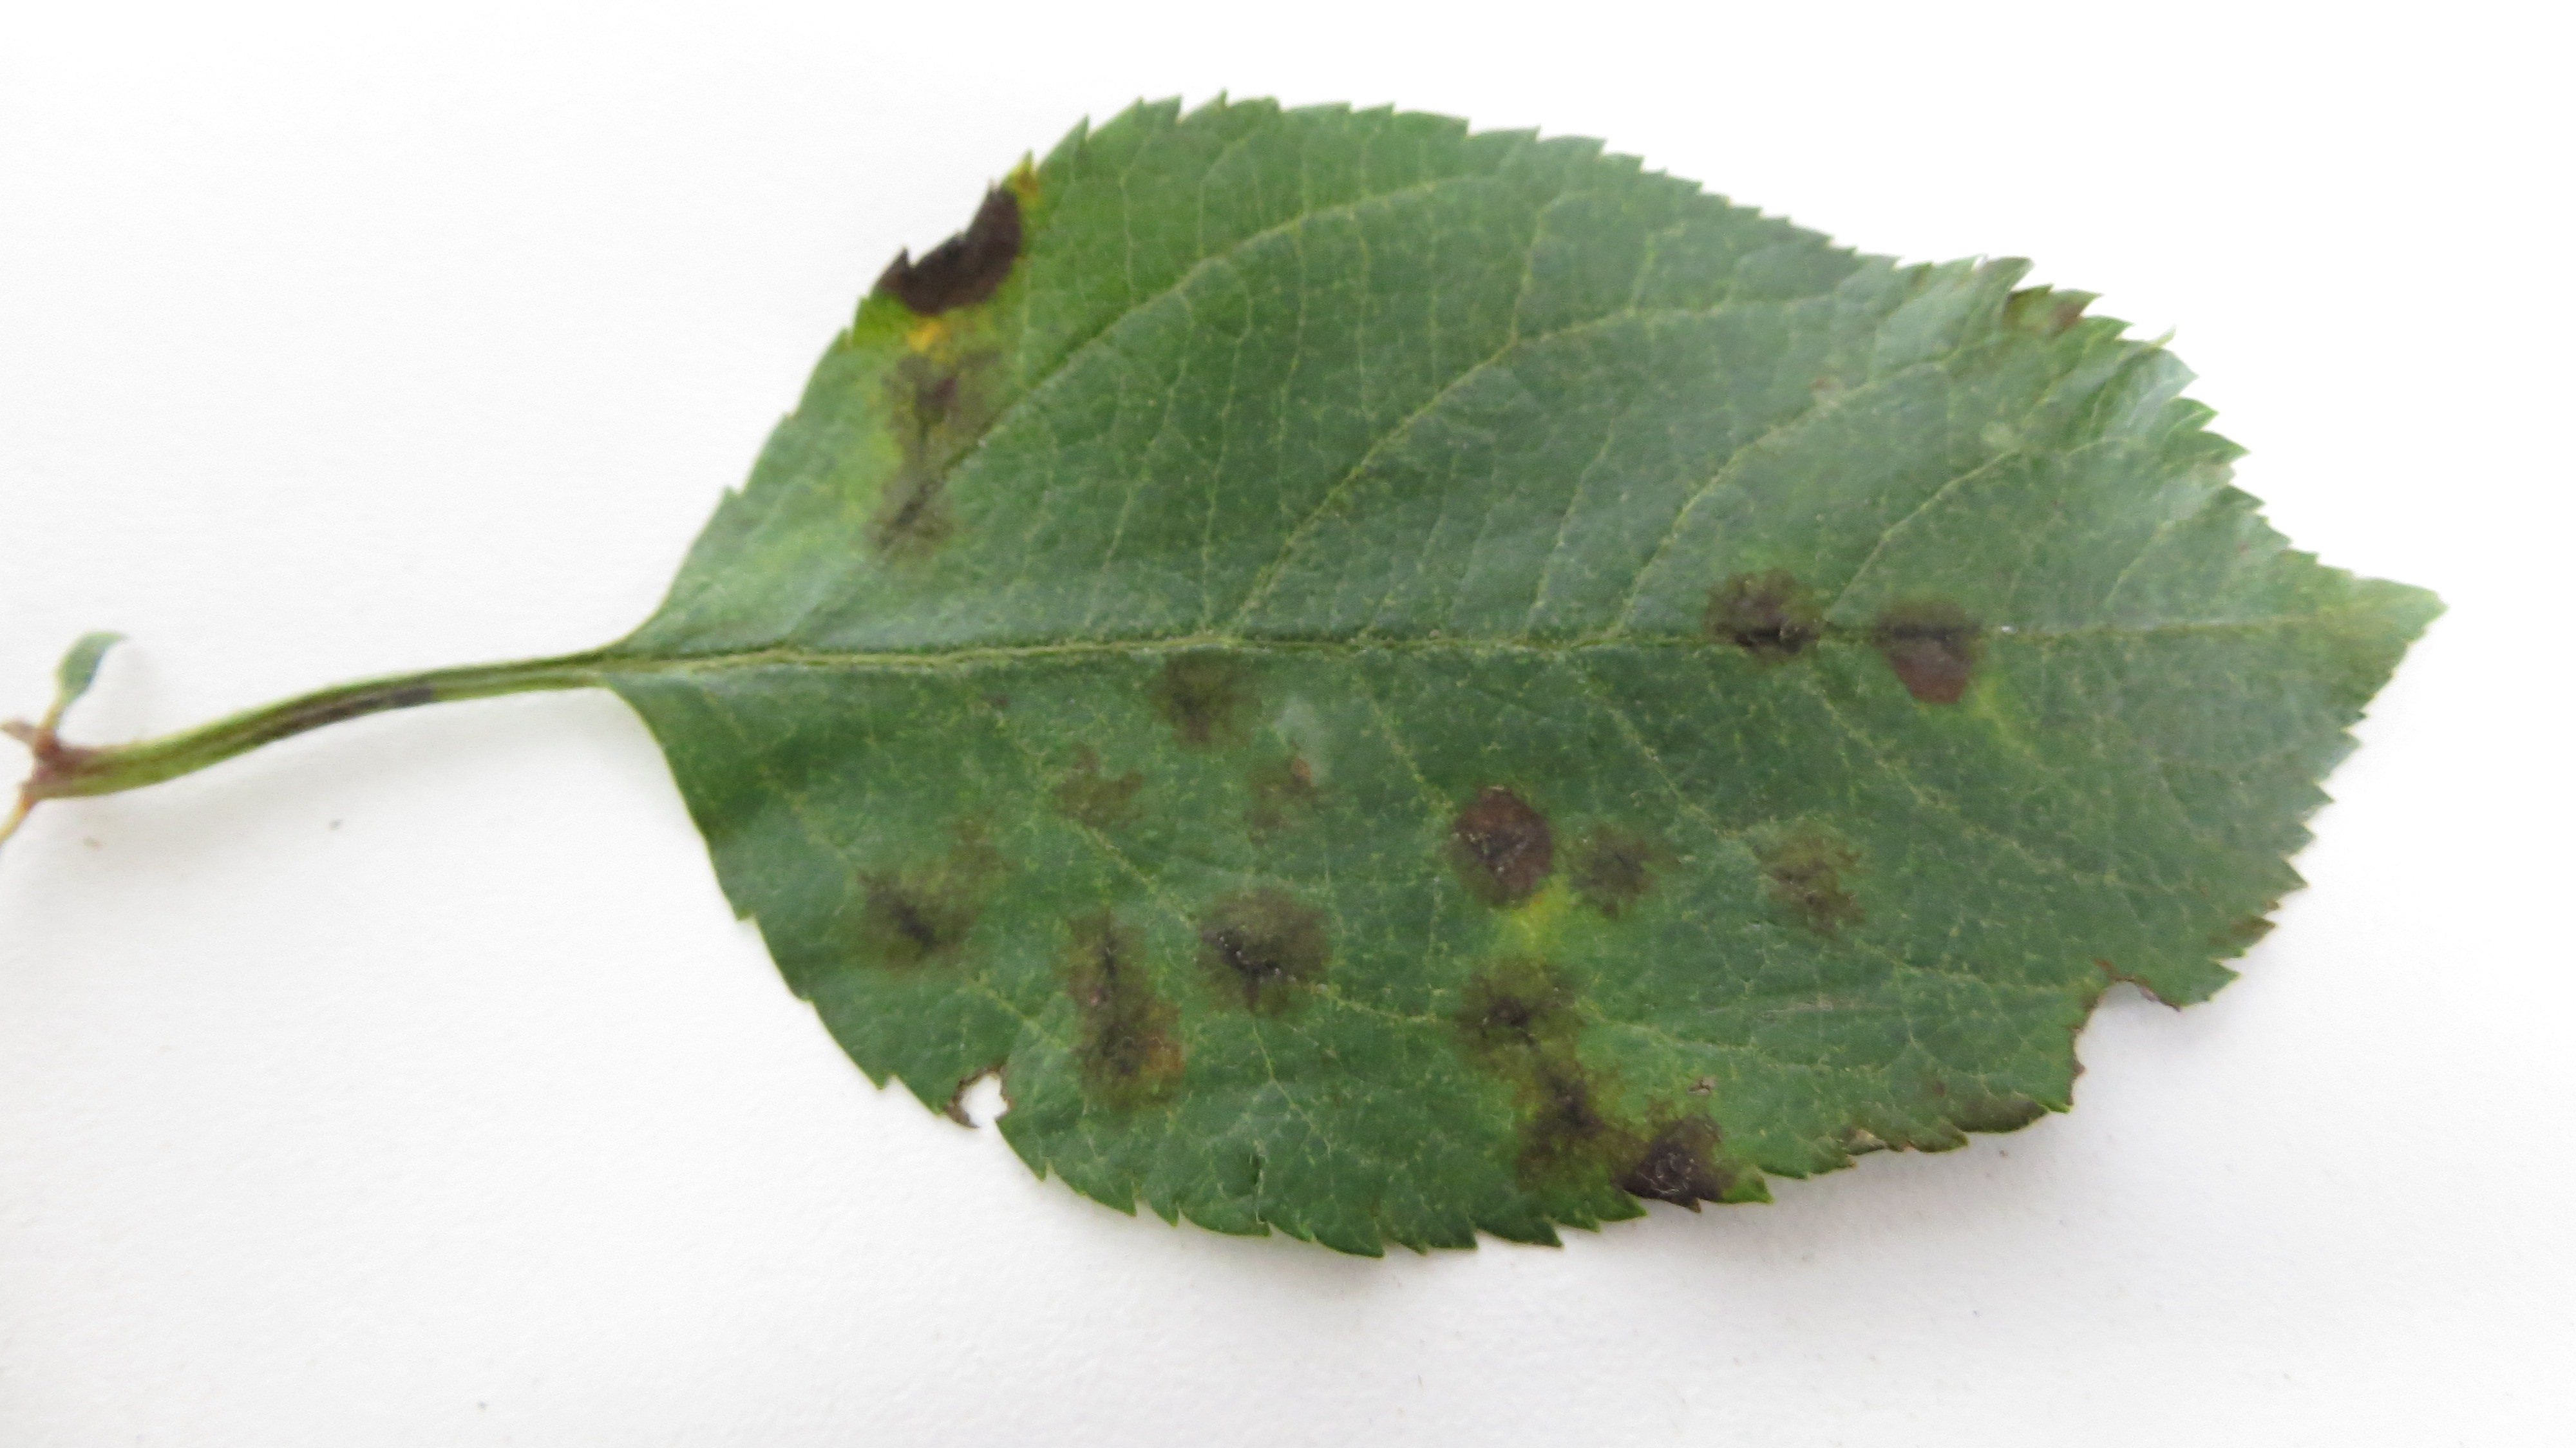sarna: (876, 163, 1039, 317), (878, 326, 1049, 462), (1187, 880, 1343, 1025), (1734, 804, 1875, 961), (1442, 761, 1564, 922), (849, 859, 991, 995), (1863, 579, 1992, 712), (1134, 627, 1258, 754), (1063, 991, 1189, 1115), (1622, 1085, 1743, 1209), (1562, 811, 1690, 928), (1500, 1073, 1622, 1186), (1693, 563, 1821, 671), (1453, 952, 1571, 1067), (1240, 738, 1339, 859), (943, 797, 1047, 906), (1051, 747, 1164, 839), (1056, 899, 1152, 1007), (1996, 260, 2097, 354), (855, 476, 954, 563), (1941, 1067, 2052, 1138)
